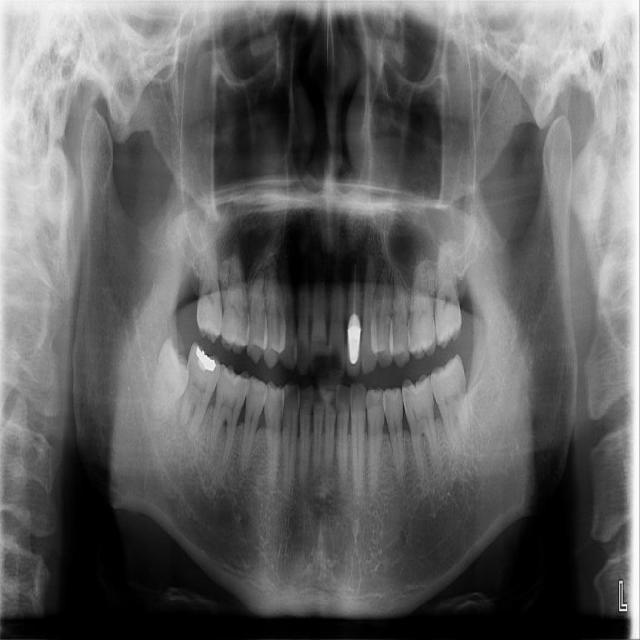Caries: (460, 379, 467, 396)
Crown: (346, 321, 362, 375)
Filling: (192, 347, 217, 371)
Root Canal Treatment: (354, 267, 358, 286), (354, 286, 356, 308)
impacted tooth: (149, 339, 187, 417)
